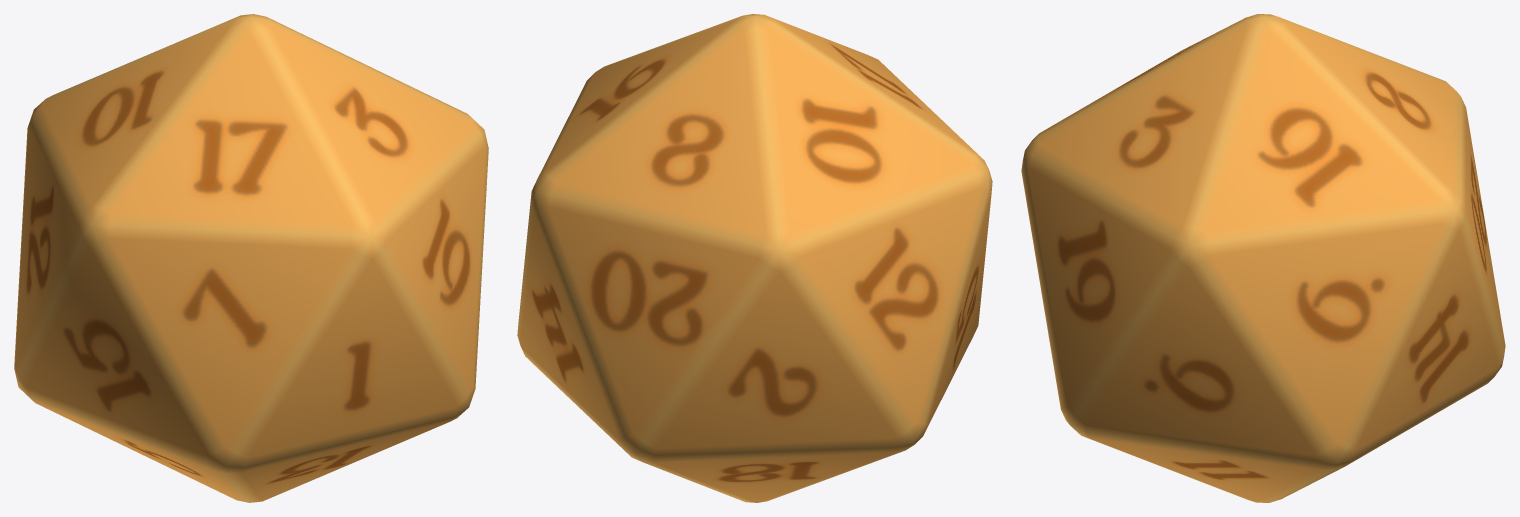
The model's file is D20_yellow.gltf.
3 renders of one model, left to right at view 1: azimuth 30°, elevation 25°; view 2: azimuth 150°, elevation 25°; view 3: azimuth 270°, elevation 25°, orthographic.
Parts seen in each view (by area): view 1: D20_yellow; view 2: D20_yellow; view 3: D20_yellow.
Boxes of the visible parts, x1,y1,x2,y2 form: D20_yellow: (14,14,488,502); D20_yellow: (517,14,992,502); D20_yellow: (1021,14,1505,502).
Bounding box in the file's own units: 0.8402 × 0.9648 × 0.8757.
Materials: 1 (1 with a texture image).
